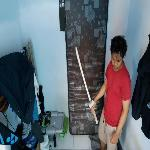Pedang: (67, 44, 103, 126)
